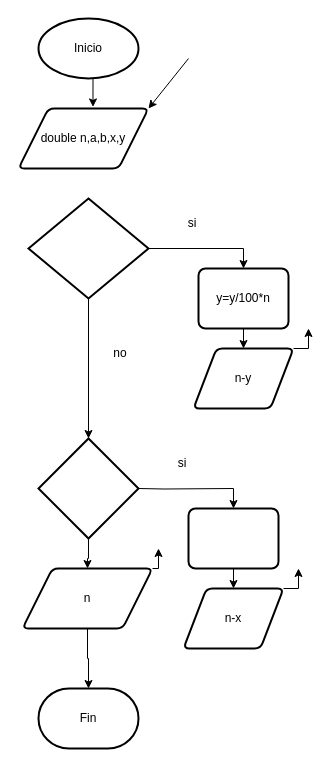
The diagram is 334 pixels wide and 766 high, and some of its shapes have lost their labels. Here are the shapes that lost their labels. From the top down, the centre of each, then its label:
the point at 88,248: n>a && n>b
the point at 88,488: n>a
the point at 233,538: x=x/100*n
